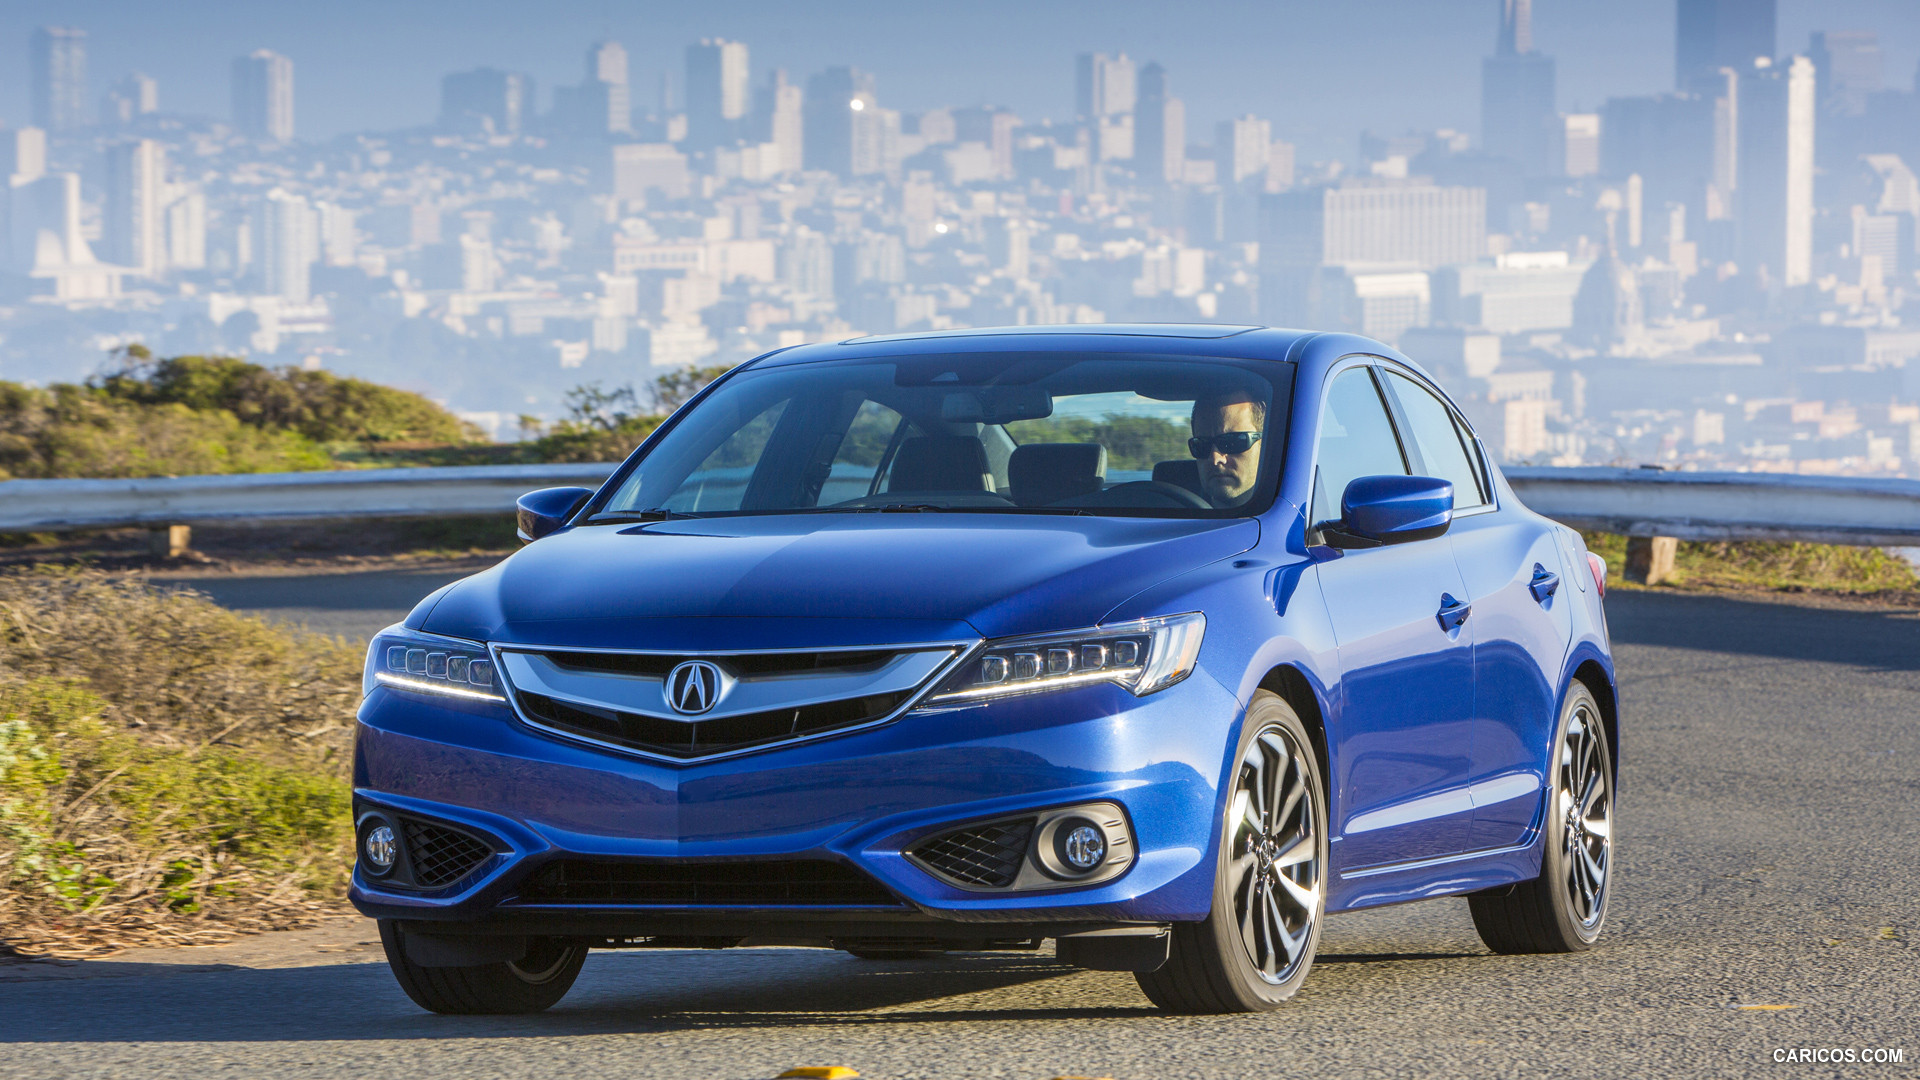Fog Lamp & Scope: (899, 786, 1153, 903)
Front: (338, 520, 1280, 927)
Front Bumper: (327, 750, 1242, 934)
Grill: (483, 634, 993, 769)
Headlight: (897, 605, 1220, 728)
